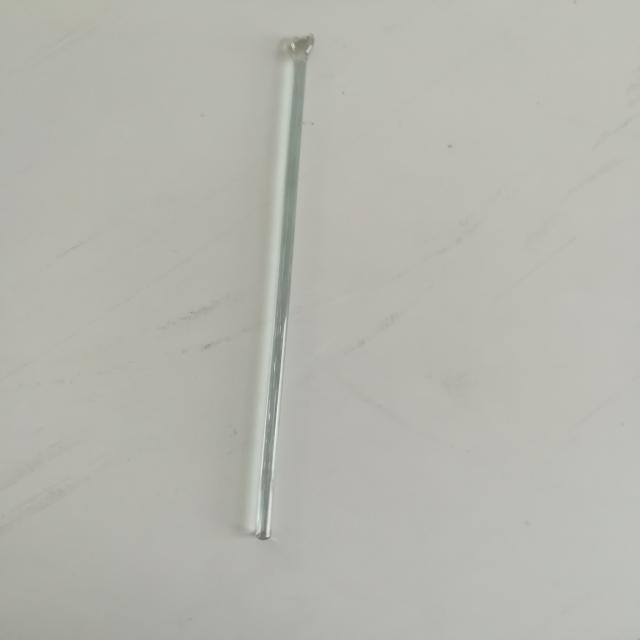Glass_Rod: (207, 18, 387, 563)
